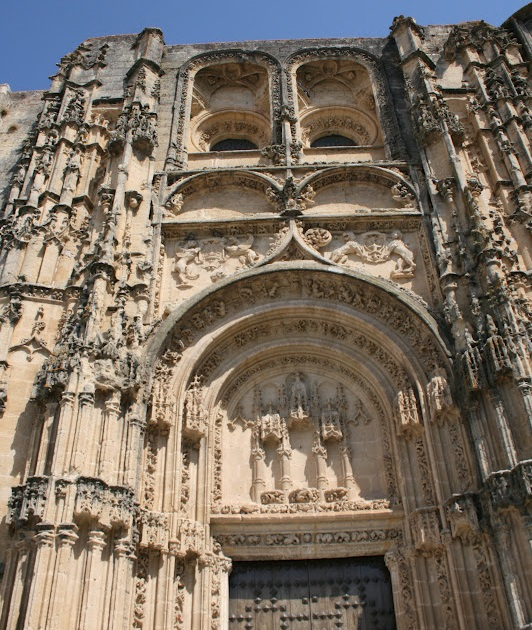arco-conopial: (176, 229, 421, 302)
